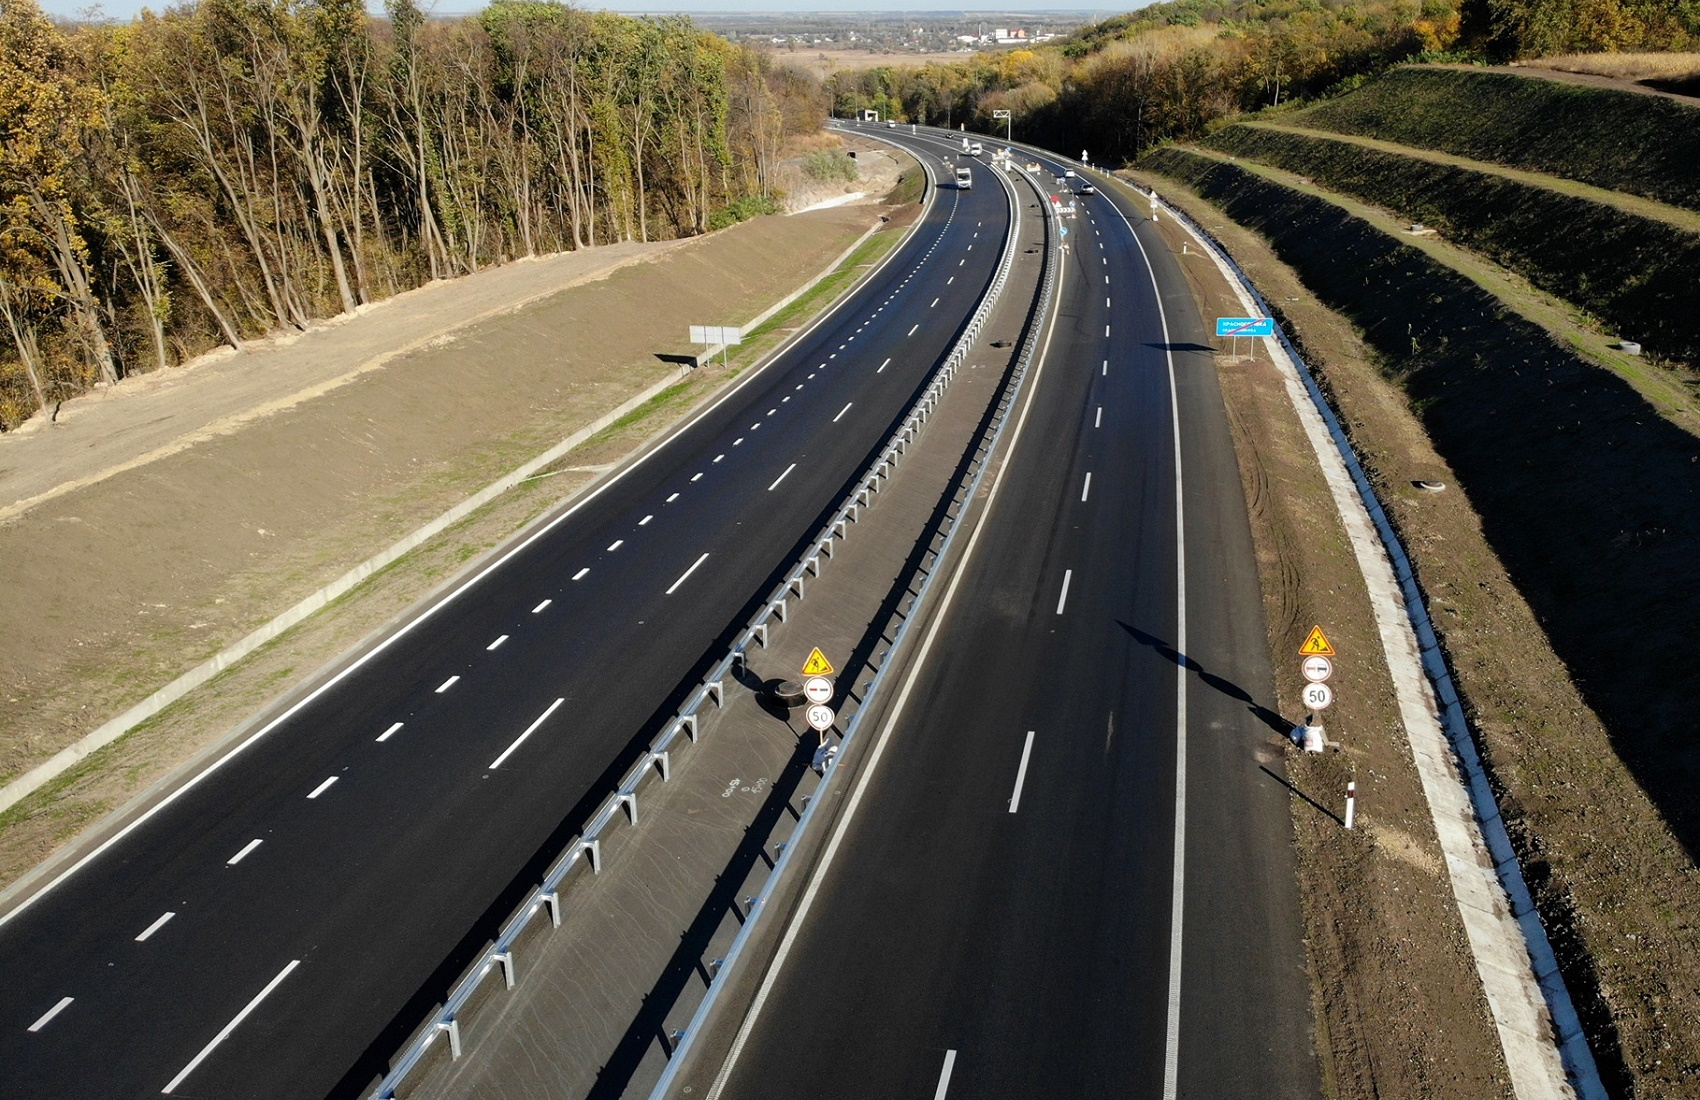sign: (1295, 622, 1334, 658), (798, 645, 835, 678), (800, 676, 839, 706), (804, 704, 838, 735), (1299, 654, 1334, 683), (1301, 681, 1334, 711), (1058, 225, 1068, 235), (1149, 190, 1159, 199), (1149, 199, 1159, 209)
